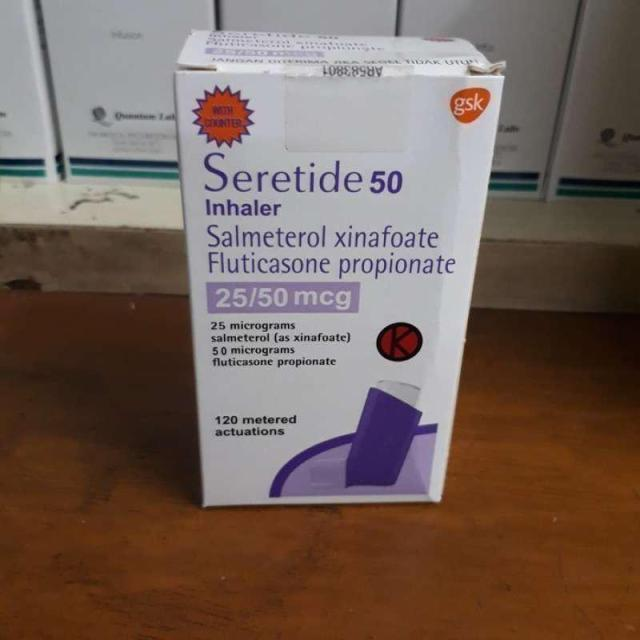drug-name: (196, 150, 407, 200)
